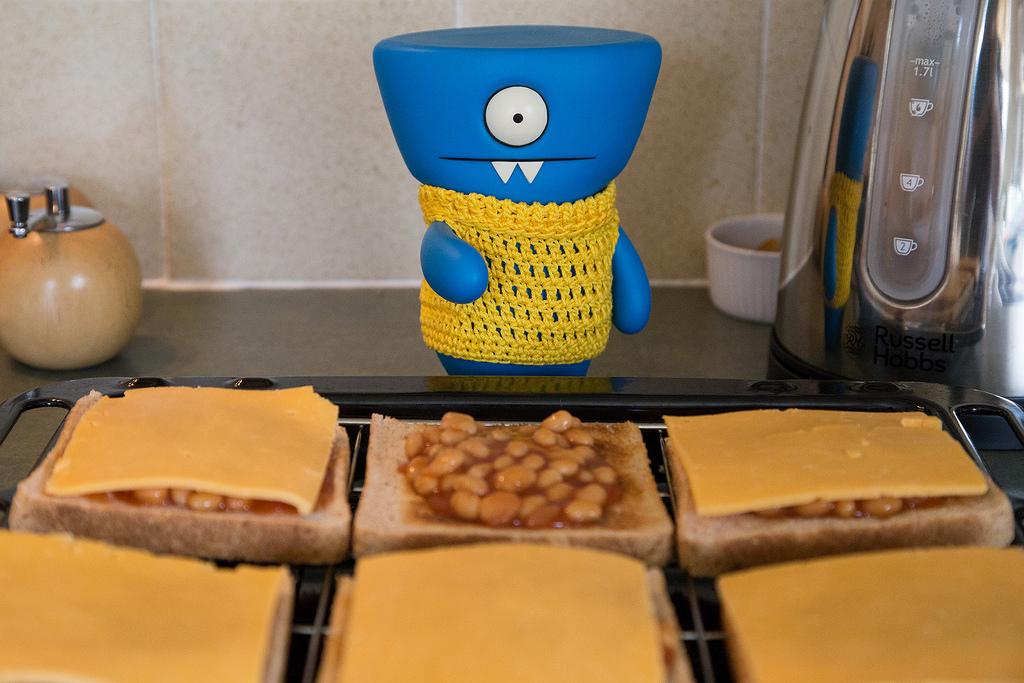glass of water: (23, 380, 361, 566), (654, 402, 1018, 565), (354, 410, 681, 568)
